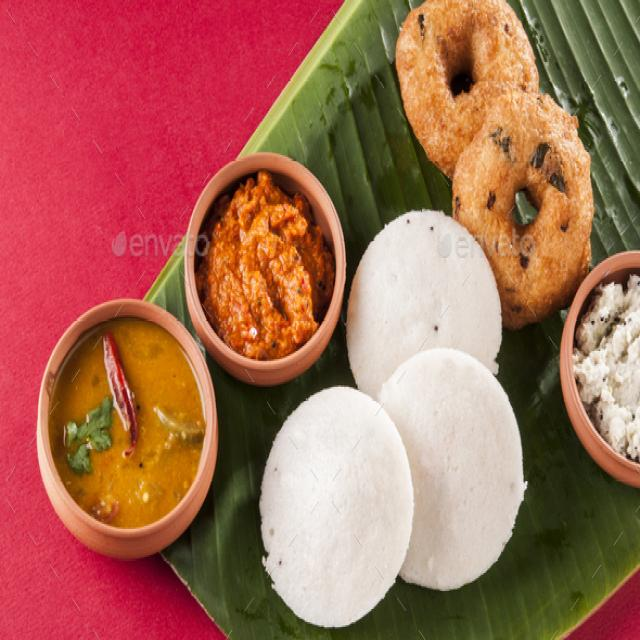IDLI: (253, 383, 420, 631), (378, 343, 525, 588), (347, 210, 504, 402)
MEDU VADA: (434, 83, 596, 332), (397, 0, 548, 182)
